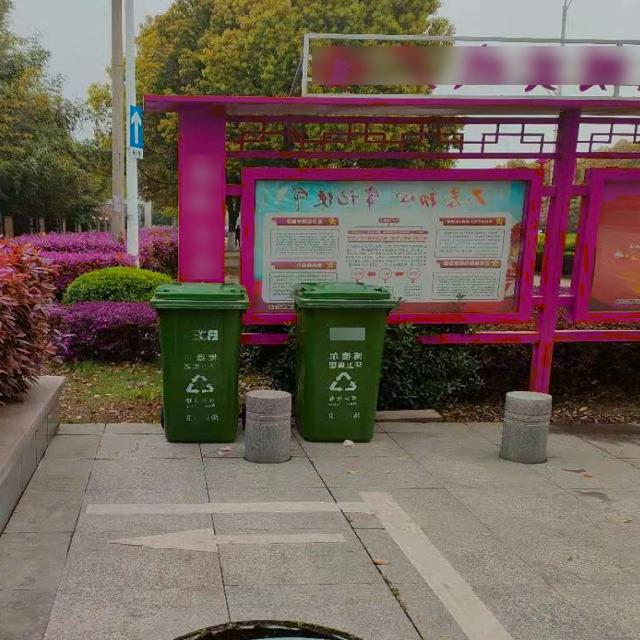uncovered: (133, 619, 425, 640)
